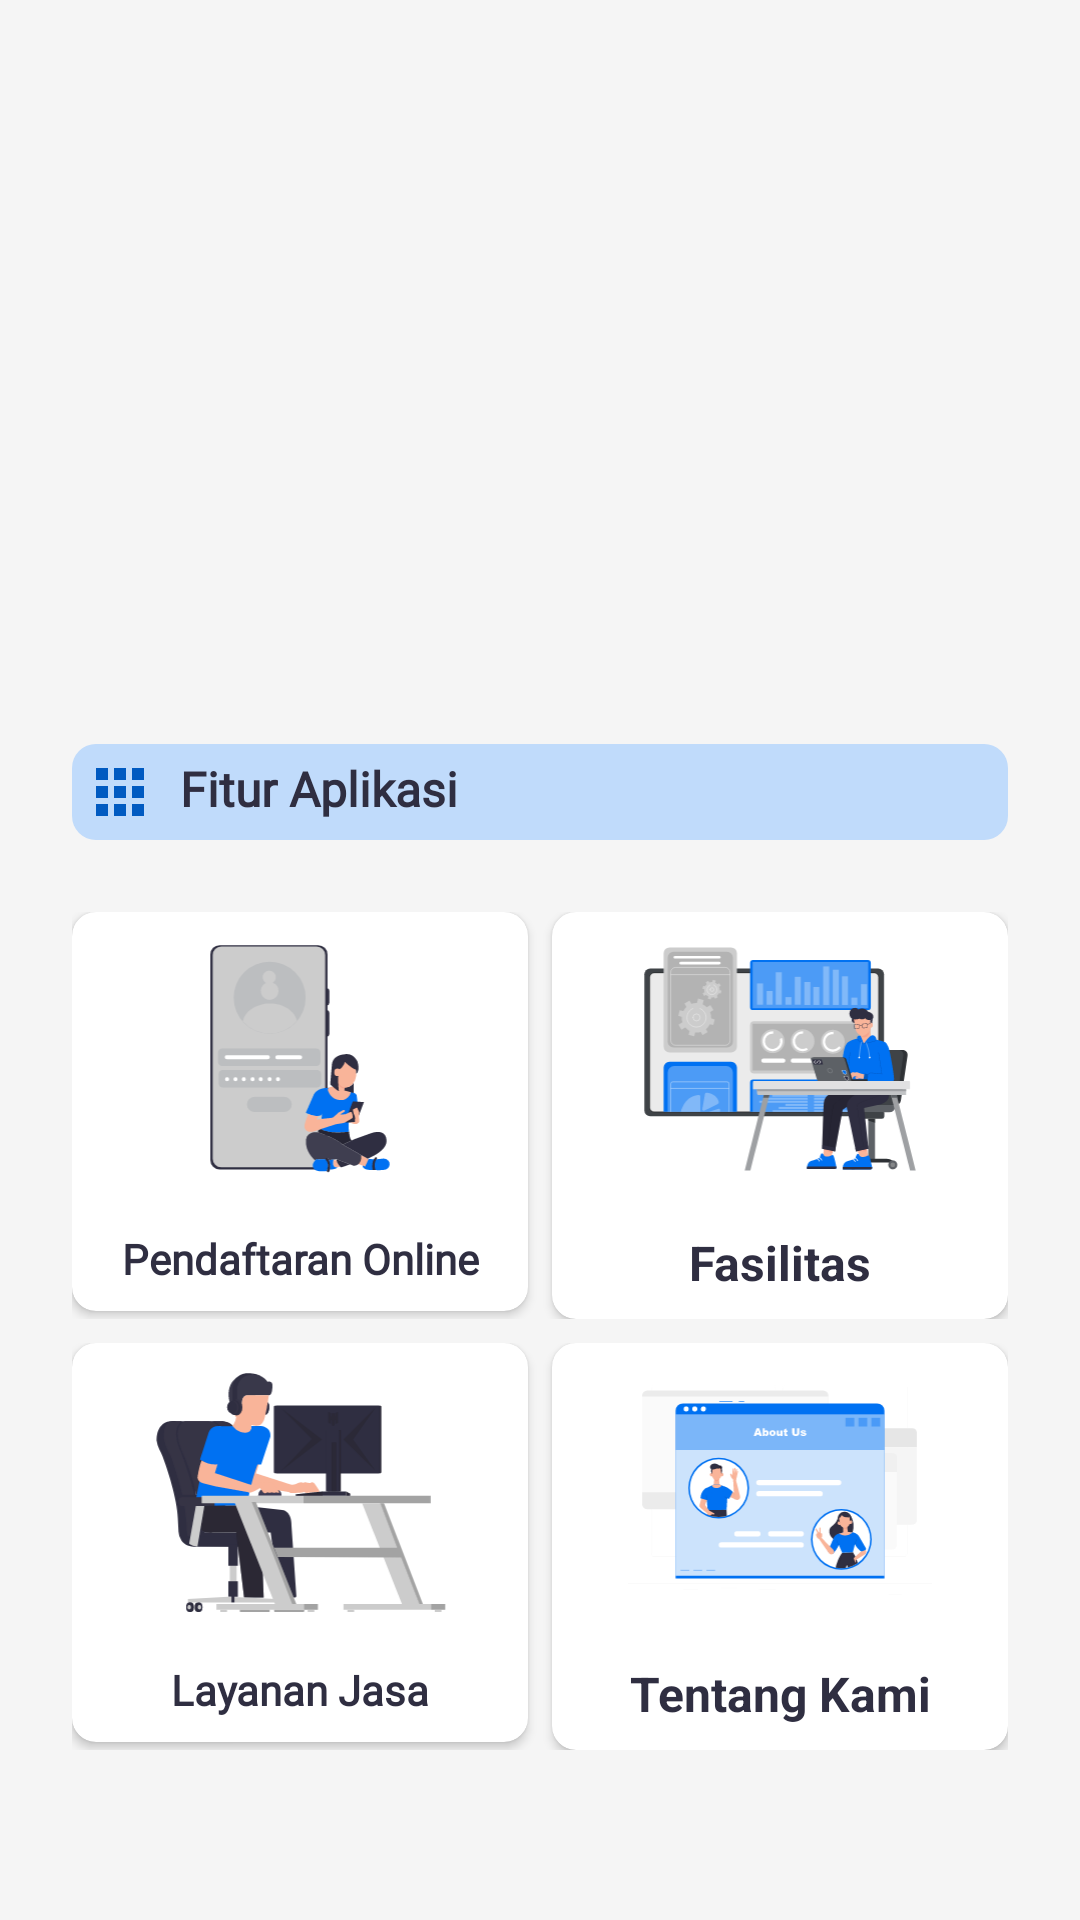

Named icons in this screenshot (1080x1920) and their centers, [x,y]:
mobile login: [300,1059]
